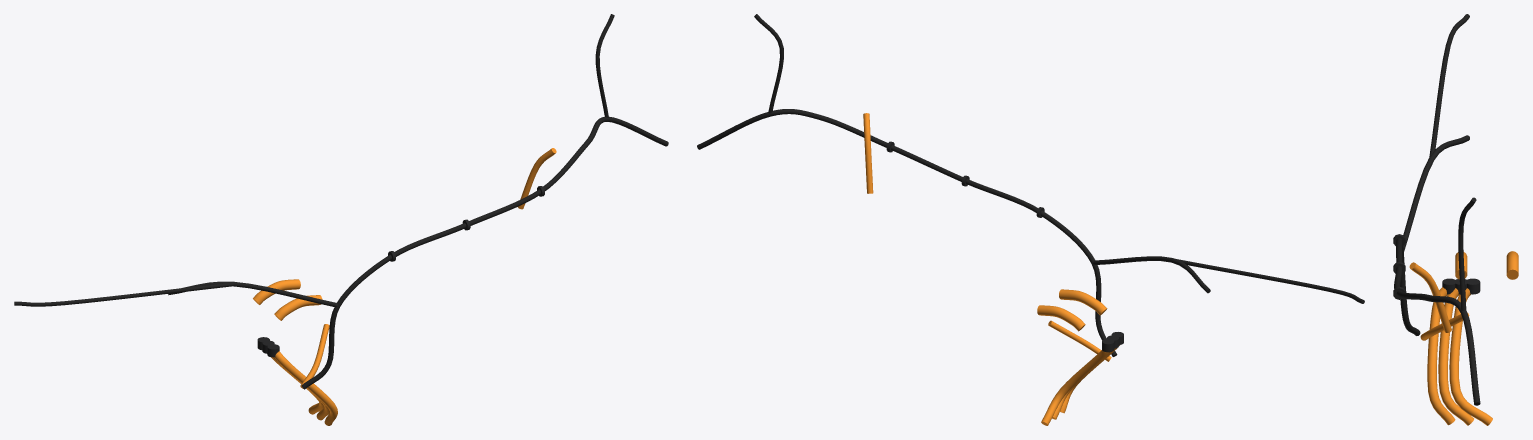
The model's file is bike_electric__wiring.glb.
3 renders of one model, left to right at view 1: azimuth 30°, elevation 25°; view 2: azimuth 150°, elevation 25°; view 3: azimuth 270°, elevation 25°, orthographic. The views are drawn at different scales.
Parts seen in each view (by area): view 1: wiring__harness_lv, wiring__hv_cables, wiring__hv_cables__phase; view 2: wiring__harness_lv, wiring__hv_cables, wiring__hv_cables__phase; view 3: wiring__harness_lv, wiring__hv_cables__phase, wiring__hv_cables, wiring__hv_cables__glands, wiring__harness_lv__clips.
Boxes of the visible parts, x1,y1,x2,y2 form: wiring__harness_lv: (14,14,668,389); wiring__hv_cables: (253,148,556,388); wiring__hv_cables__phase: (271,351,337,425); wiring__harness_lv: (697,14,1364,356); wiring__hv_cables: (863,113,1111,361); wiring__hv_cables__phase: (1041,345,1119,425); wiring__harness_lv: (1394,14,1480,405); wiring__hv_cables__phase: (1427,287,1492,425); wiring__hv_cables: (1409,251,1518,340); wiring__hv_cables__glands: (1442,278,1480,294); wiring__harness_lv__clips: (1393,234,1405,299).
Size of the model in its own units: 141 by 68.39 by 19.48.
